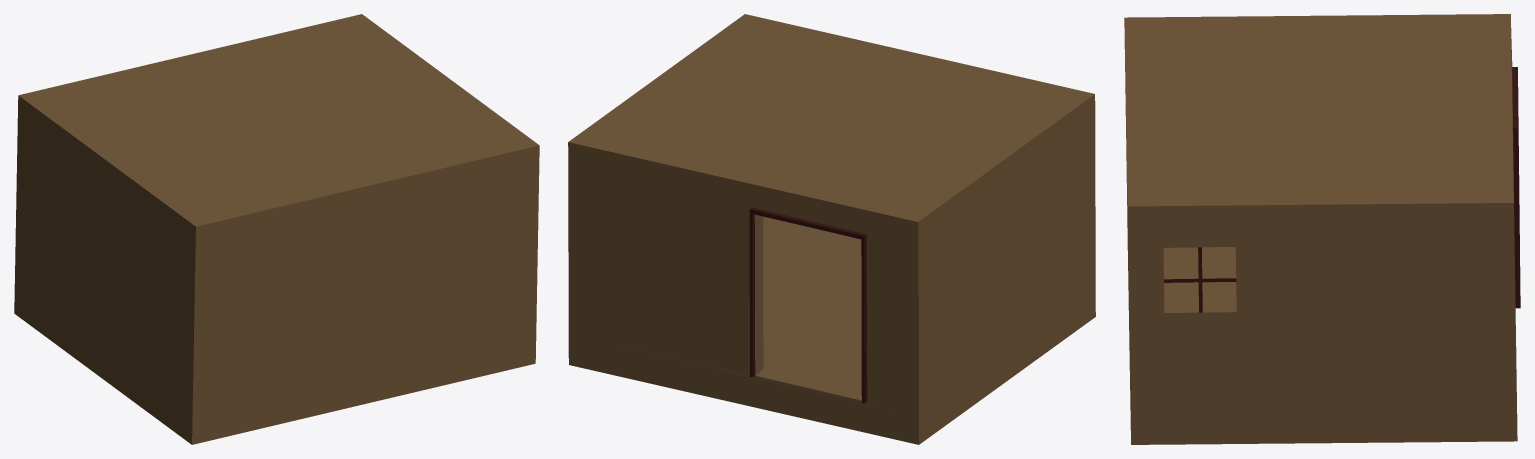
File: House_Wall_1209.fbx
The picture shows the model from 3 angles, left to right: view 1: azimuth 30°, elevation 25°; view 2: azimuth 150°, elevation 25°; view 3: azimuth 270°, elevation 25°; orthographic projection. The views are drawn at different scales.
Parts seen in each view (by area): view 1: House; view 2: House; view 3: House.
Part boxes in pixels (x1,y1,x2,y2): House: (14, 14, 539, 444); House: (568, 14, 1095, 444); House: (1124, 14, 1520, 444).
Size of the model in its own units: 159 by 98.17 by 143.
